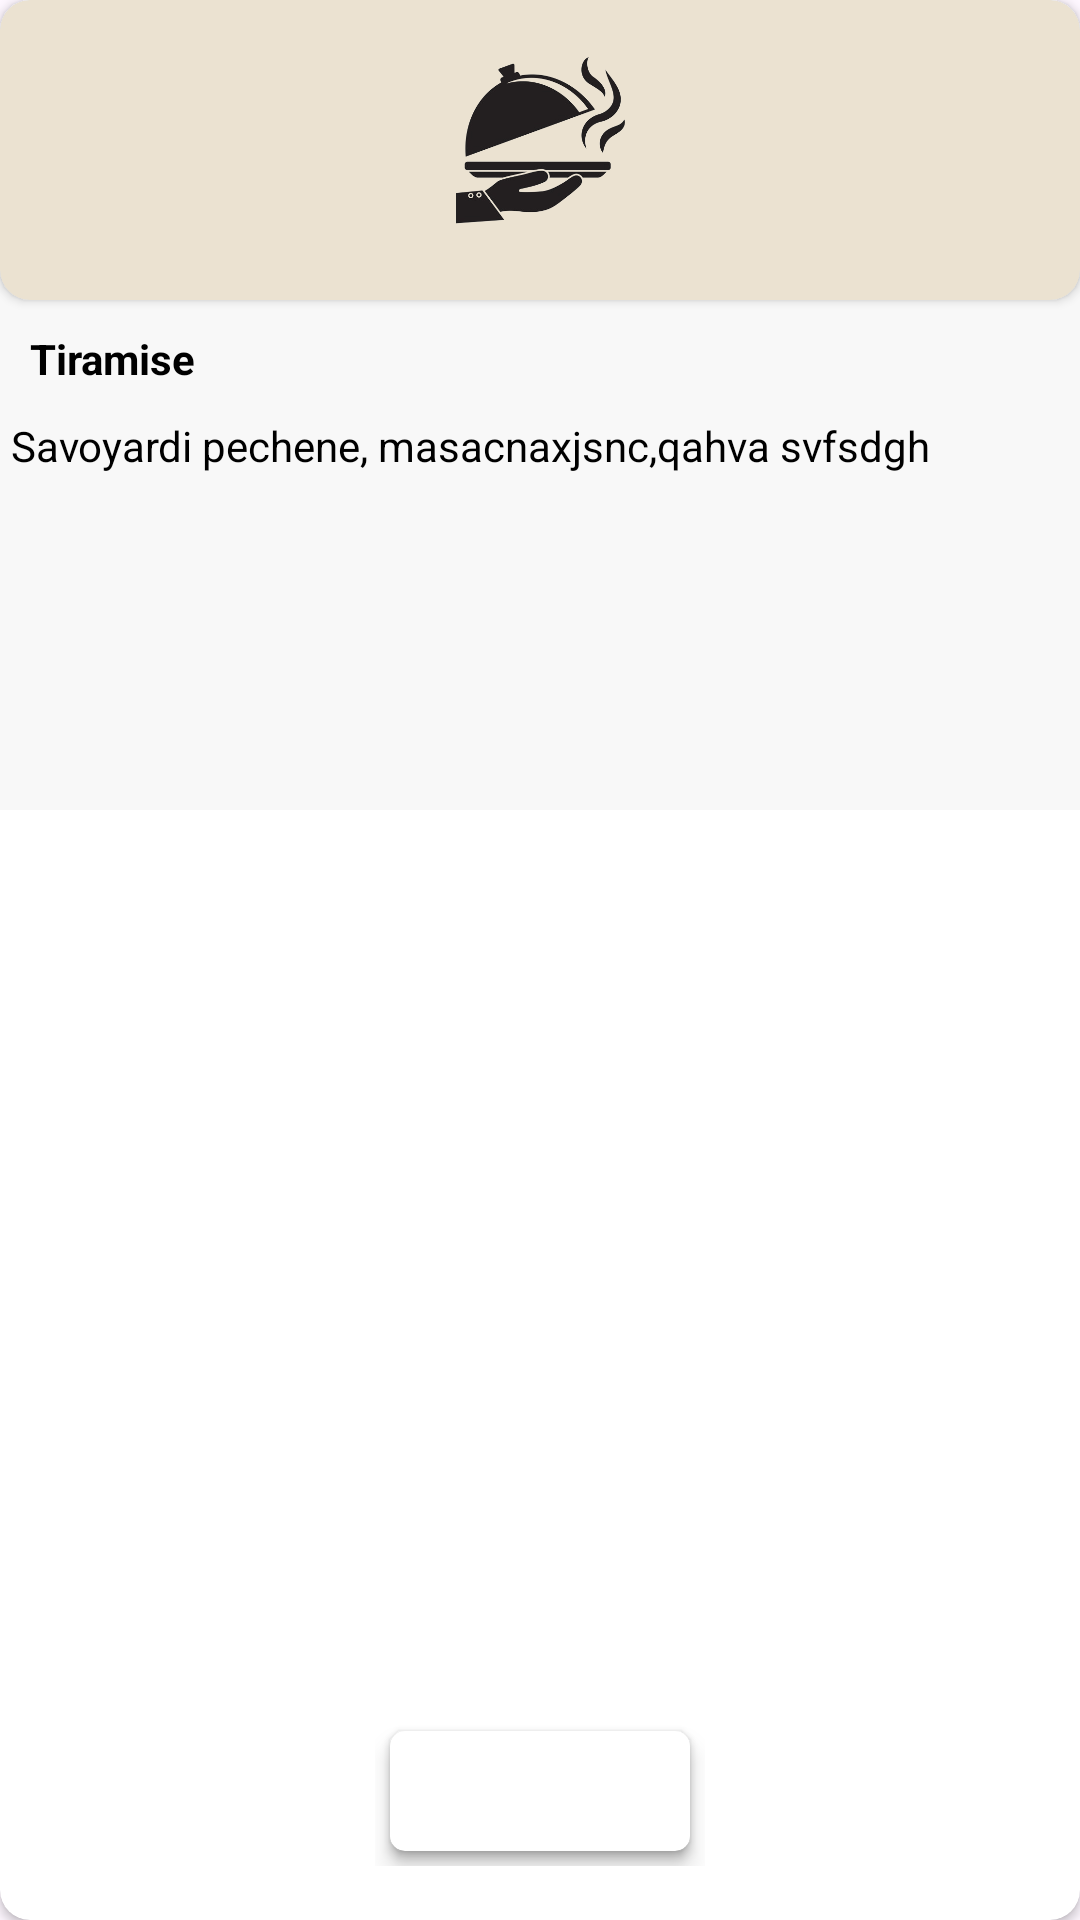

Where to tap for icons on this 1080 × 1920 app screen, as (x,y):
sfood: (540,140)
